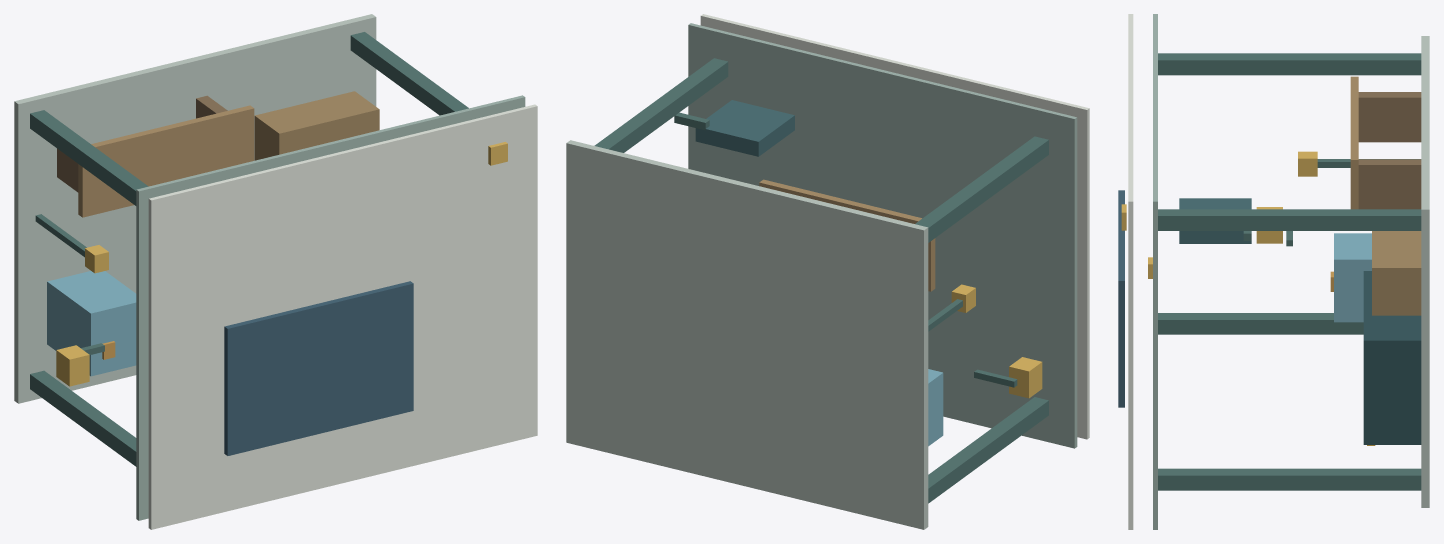
File: saaya_assembly.obj
The picture shows the model from 3 angles, left to right: view 1: azimuth 30°, elevation 25°; view 2: azimuth 150°, elevation 25°; view 3: azimuth 270°, elevation 25°; orthographic projection.
Parts seen in each view (by area): view 1: R2, P0, PV, SE, R1, W1, PWR, P3, P1, P4, S1, L27; view 2: P0, R1, R2, A1, P3, P1, P4, SE, S1, W1; view 3: E0, P2, P3, P4, P1, PWR, P0, L27, L124, R2, W1, R1 (+5 smaller).
Boxes of the visible parts, bbox=[...] form: R2: bbox=[148, 104, 537, 529]; P0: bbox=[14, 14, 376, 403]; PV: bbox=[224, 281, 413, 455]; SE: bbox=[78, 105, 254, 217]; R1: bbox=[136, 95, 525, 520]; W1: bbox=[47, 271, 136, 376]; PWR: bbox=[254, 91, 379, 160]; P3: bbox=[30, 110, 148, 205]; P1: bbox=[30, 370, 136, 466]; P4: bbox=[350, 32, 468, 115]; S1: bbox=[56, 345, 89, 386]; L27: bbox=[57, 148, 78, 192]; P0: bbox=[566, 140, 928, 529]; R1: bbox=[688, 23, 1077, 448]; R2: bbox=[700, 14, 1089, 439]; A1: bbox=[695, 100, 794, 156]; P3: bbox=[915, 136, 1048, 242]; P1: bbox=[928, 397, 1048, 503]; P4: bbox=[594, 58, 728, 152]; SE: bbox=[759, 179, 935, 291]; S1: bbox=[1009, 357, 1042, 398]; W1: bbox=[928, 369, 943, 446]; E0: bbox=[1363, 271, 1421, 444]; P2: bbox=[1158, 468, 1421, 490]; P3: bbox=[1158, 53, 1421, 75]; P4: bbox=[1158, 209, 1421, 230]; P1: bbox=[1158, 313, 1363, 334]; PWR: bbox=[1372, 231, 1421, 315]; P0: bbox=[1421, 36, 1429, 507]; L27: bbox=[1358, 92, 1421, 142]; L124: bbox=[1358, 159, 1421, 209]; R2: bbox=[1128, 14, 1133, 529]; W1: bbox=[1334, 233, 1371, 322]; R1: bbox=[1153, 14, 1157, 529].
Bounding box in the file's own units: 282 × 220 × 189.
